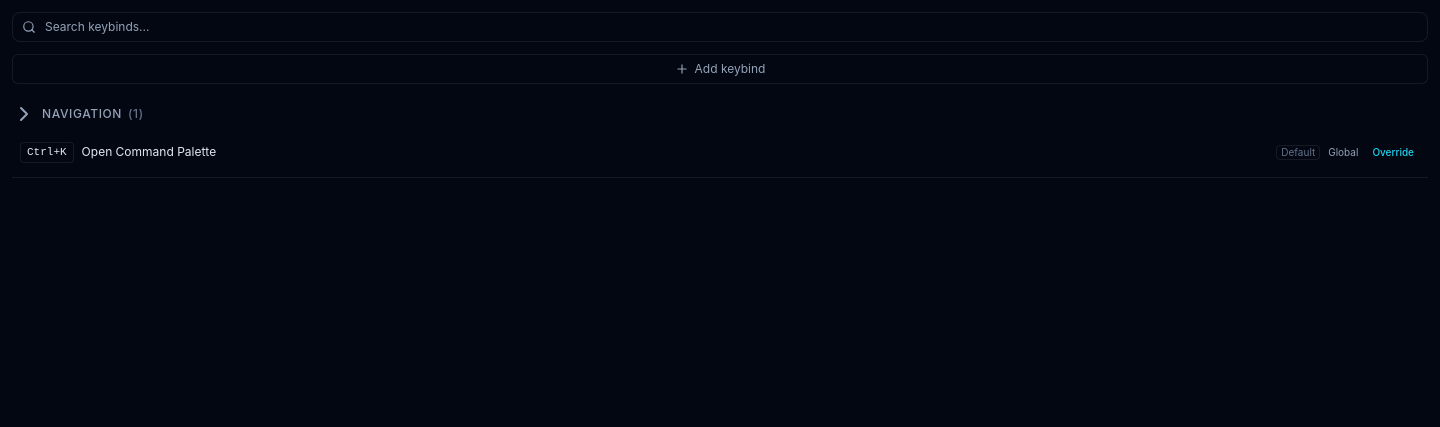
KeybindSettings › plugin commands › binds a key to a plugin command on this device, not on the server
Click the button "Add keybind".
click(720, 69)  # box [12,54,1428,84]
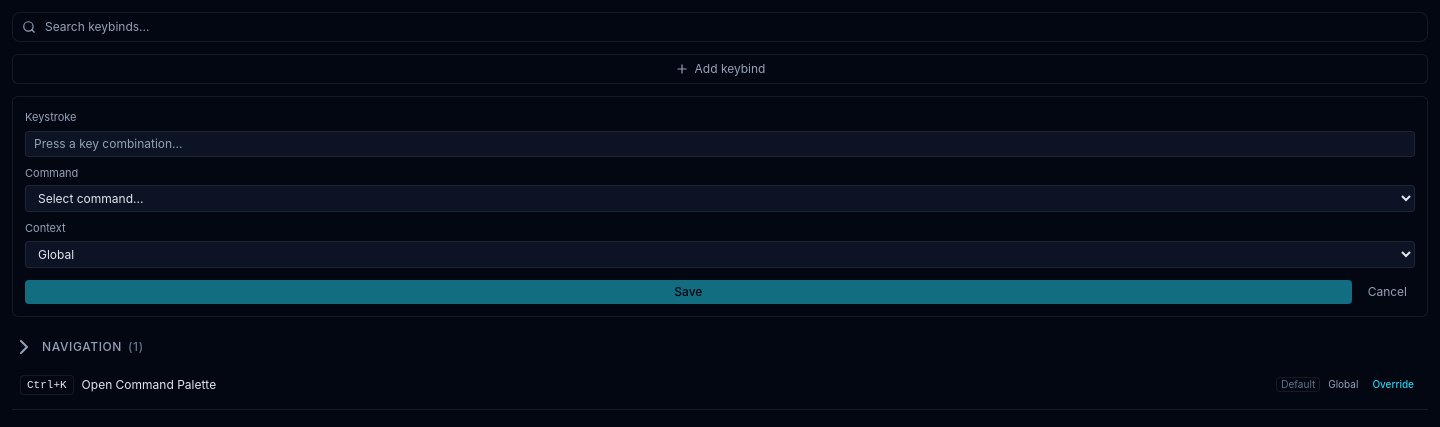
Press p in the field with placeholder "Press a key combination...", box [25,130,1415,156]
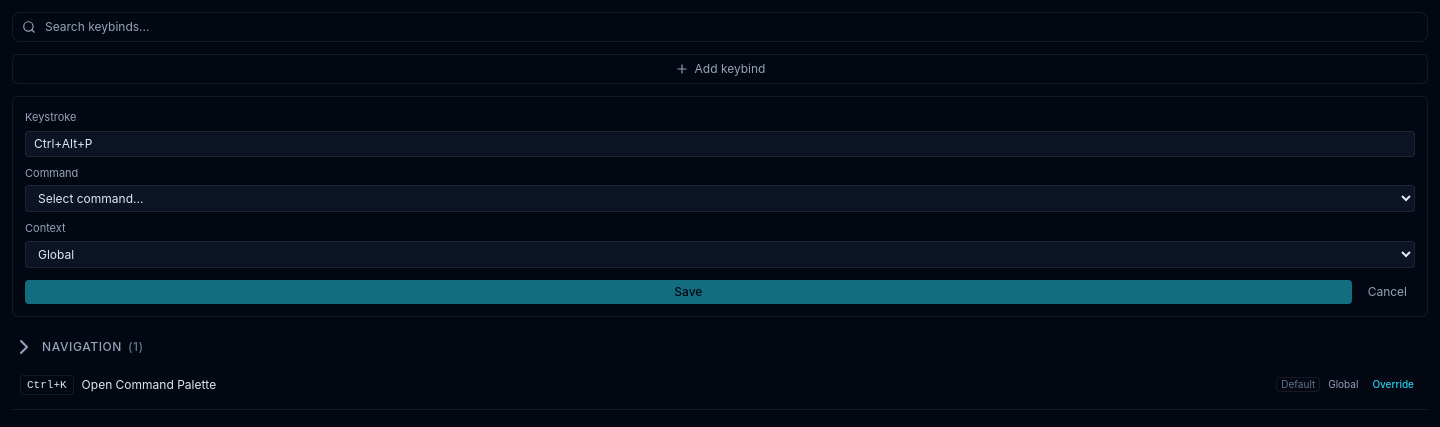
Select "Refresh pods" in the dropdown named "Command" at x=720, y=198, box [25,185,1415,212]
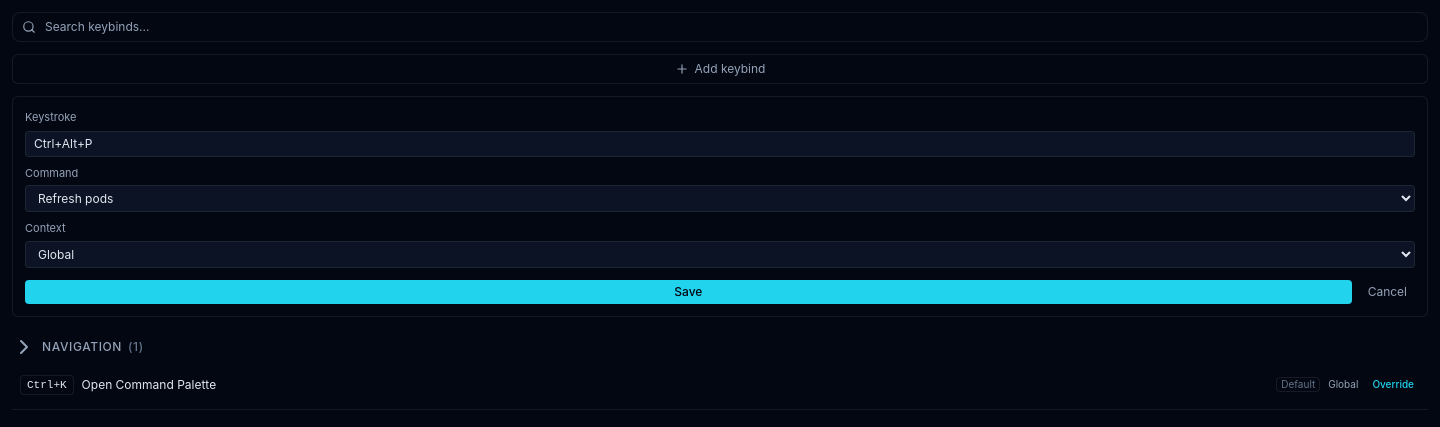
Click the button "Save".
click(688, 292)  # box [25,280,1352,304]
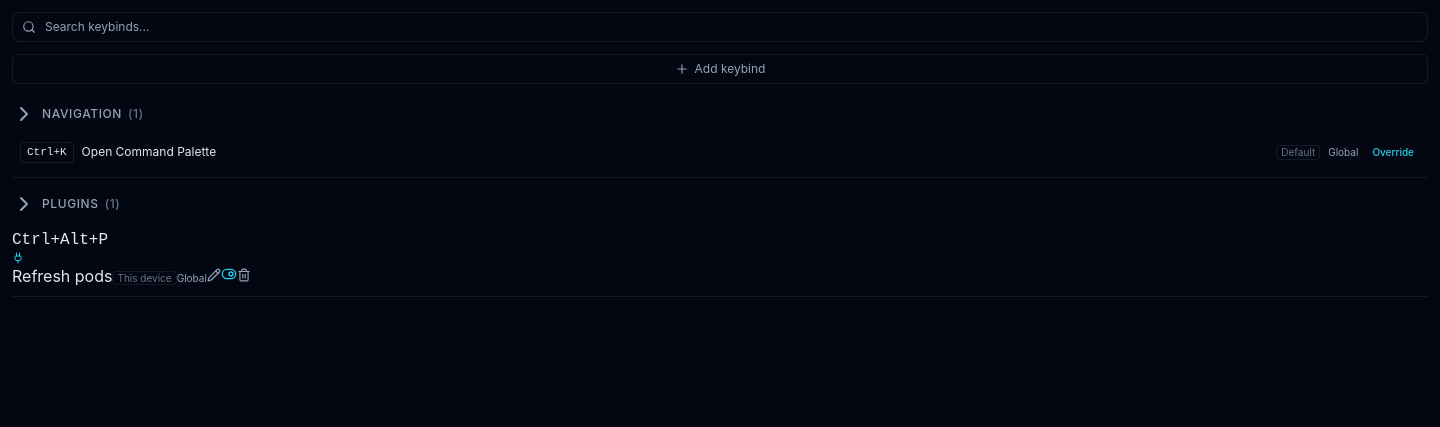
Expected: the text "Refresh pods" is shown, [12,266,112,286]
Expected: the text "This device" is shown, [112,271,177,285]
